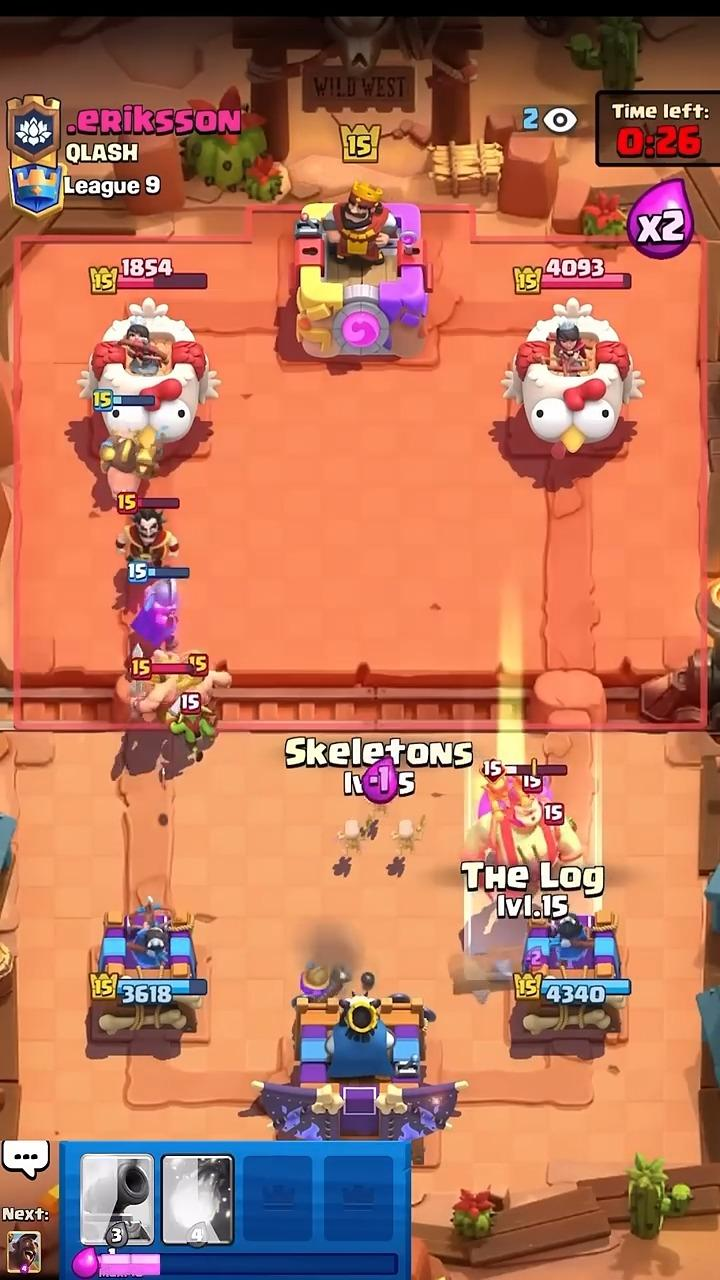electro wizard: (116, 509, 177, 566)
elite barbarians: (126, 650, 230, 718)
goblin: (167, 678, 215, 758)
goblin giant: (466, 777, 582, 893)
hog rider: (101, 427, 159, 496)
musketeer: (132, 580, 177, 650), (300, 962, 350, 1001)
